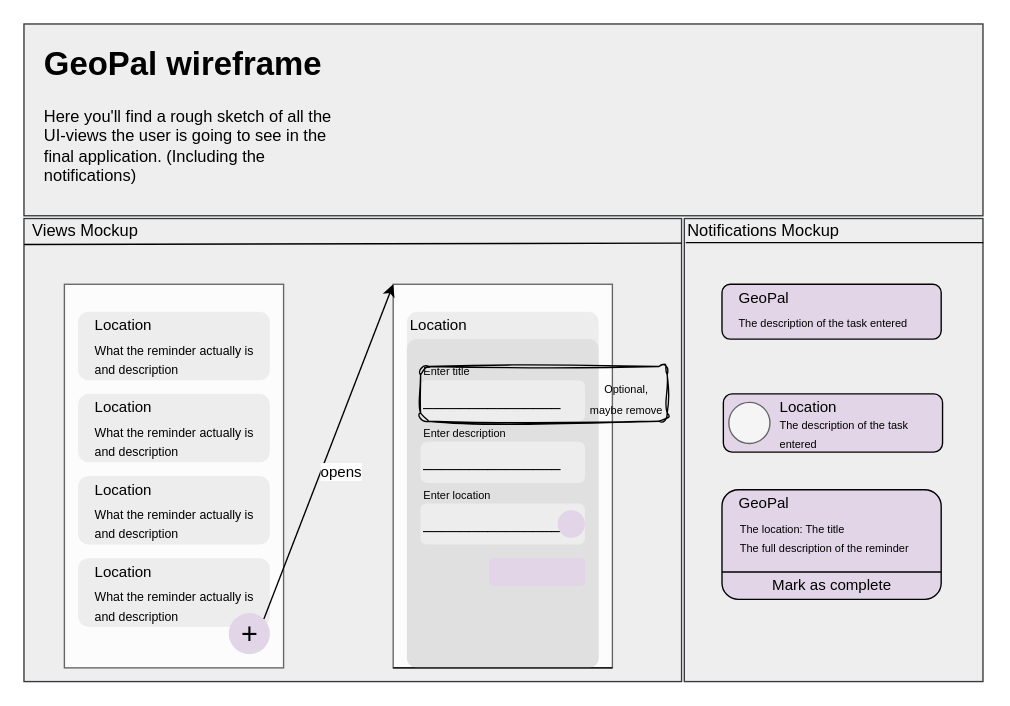
The diagram is 1010 pixels wide and 706 high, and some of its shapes have lost their labels. Each missing label, with the centre of its shape:
"GP" belongs at [748,422].
"GPS" belongs at [570,523].
"Save" belongs at [536,571].
